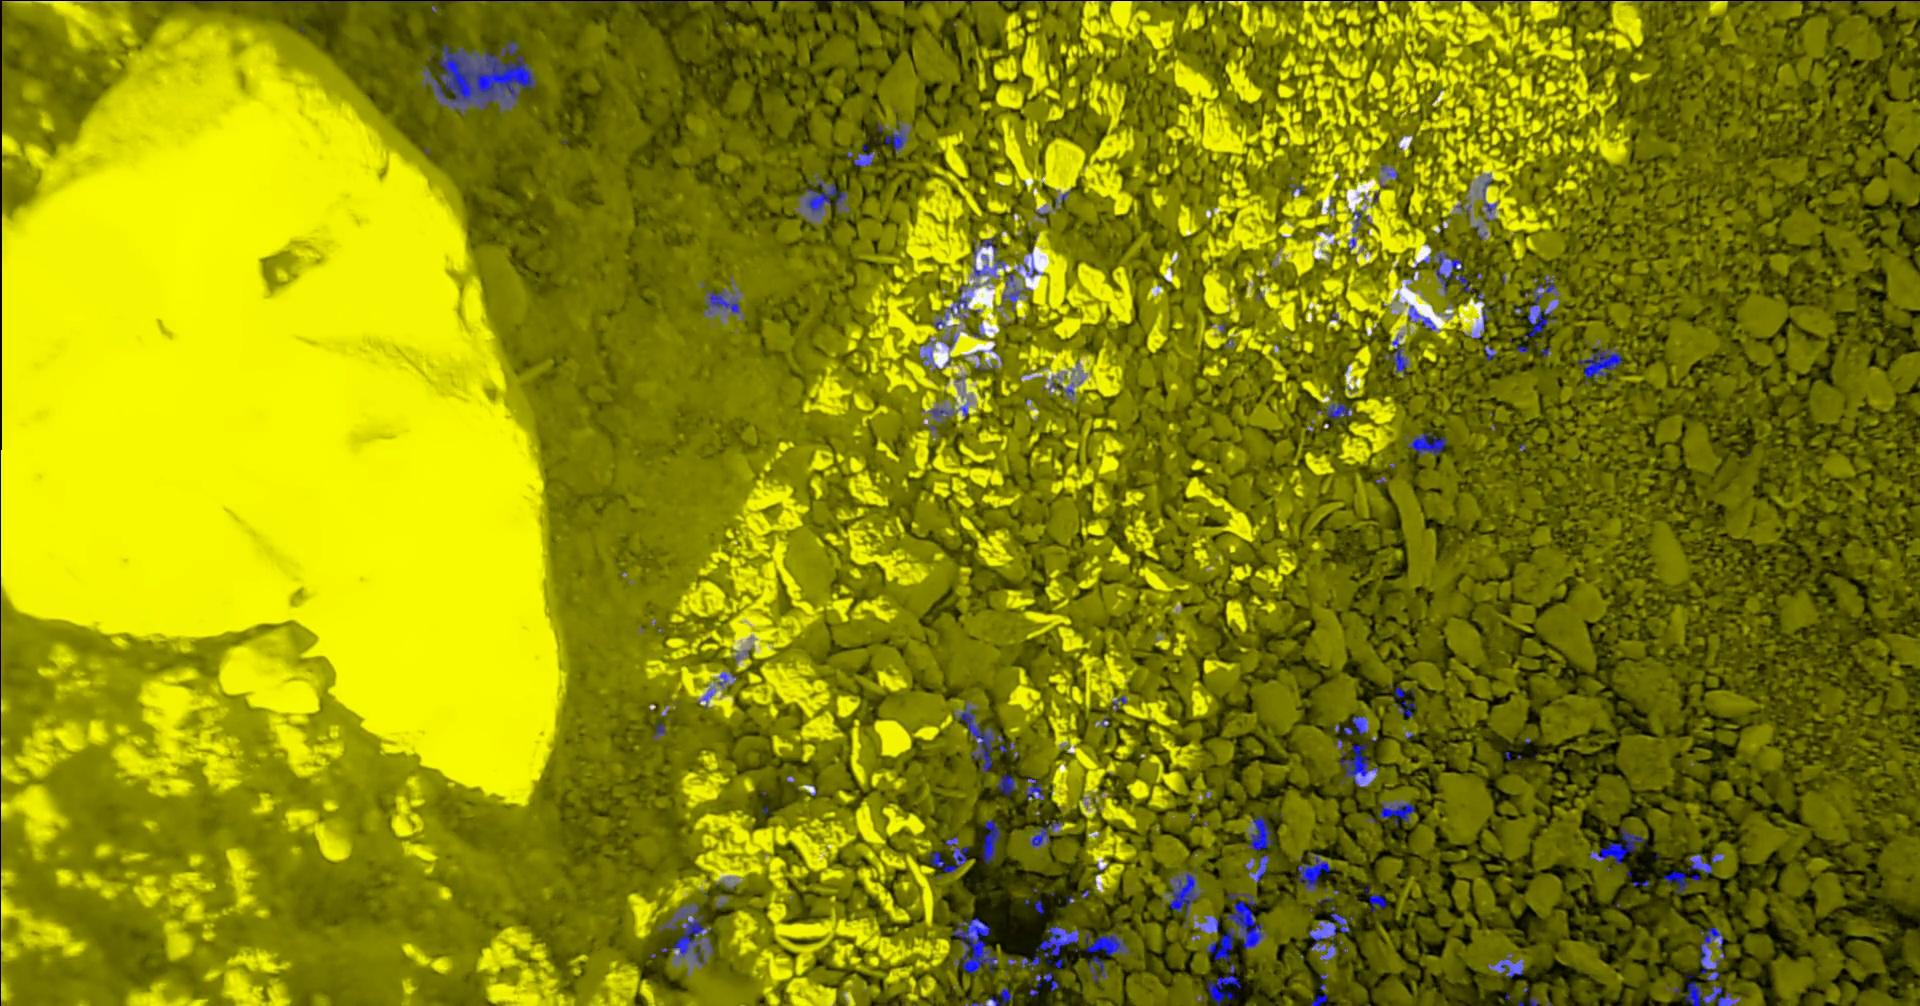ant: (952, 702, 1015, 771), (157, 0, 463, 11), (1006, 925, 1078, 970), (1084, 931, 1133, 981), (1523, 274, 1557, 337), (932, 285, 979, 329), (1166, 868, 1200, 927), (1308, 906, 1352, 951), (1336, 738, 1378, 784), (1589, 828, 1644, 862), (1575, 345, 1622, 385), (804, 177, 848, 216), (1434, 251, 1474, 293), (1684, 974, 1738, 1005), (927, 836, 968, 873), (1205, 964, 1239, 1005), (1699, 926, 1724, 981), (1297, 854, 1330, 890), (1406, 431, 1448, 456), (1001, 273, 1026, 311), (1246, 815, 1272, 850), (1378, 801, 1415, 826), (1029, 821, 1062, 847), (1477, 291, 1498, 332), (1317, 401, 1352, 426), (1384, 337, 1407, 373), (705, 288, 739, 312), (1487, 956, 1524, 978), (884, 119, 907, 154), (982, 819, 999, 862), (846, 144, 879, 166), (1029, 970, 1058, 996), (1390, 686, 1415, 716), (1408, 305, 1435, 330), (1686, 852, 1719, 873), (1244, 855, 1269, 882), (1048, 375, 1073, 398), (1663, 870, 1688, 893), (1310, 973, 1327, 1005), (1482, 174, 1495, 213), (987, 986, 1012, 1005), (996, 774, 1016, 796), (1023, 777, 1044, 800), (1352, 210, 1371, 232), (930, 406, 952, 423), (1368, 893, 1385, 911), (982, 235, 997, 255), (1352, 715, 1368, 734), (1017, 263, 1037, 277), (651, 721, 665, 739), (556, 0, 693, 1), (1483, 344, 1493, 361), (485, 0, 550, 1)
